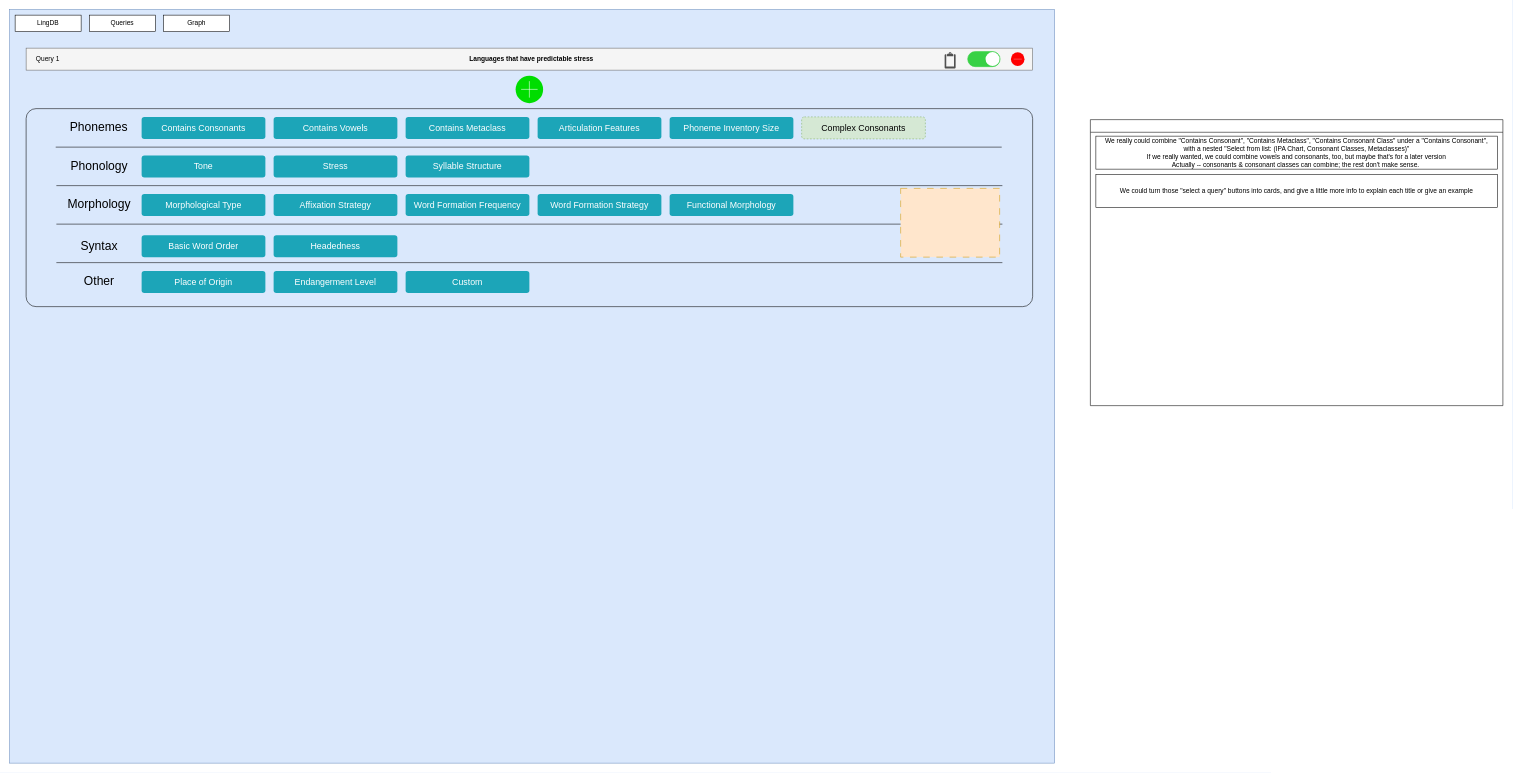
The diagram is 1513 pixels wide and 773 high, and some of its shapes have lost their labels. The box of each missing label's shape, as (x1, y1, x2, y2) in pixels:
hidden in fall semester: (900, 188, 1000, 257)
Notes: (1090, 119, 1503, 406)
